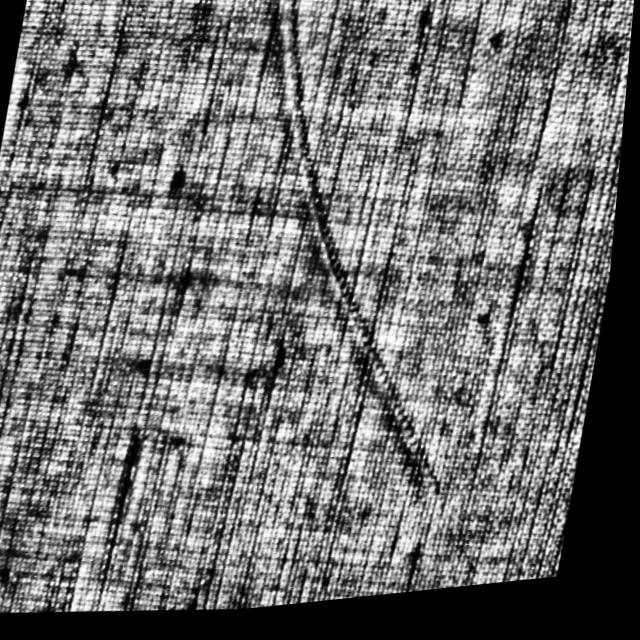Stitch: (208, 0, 535, 519)
